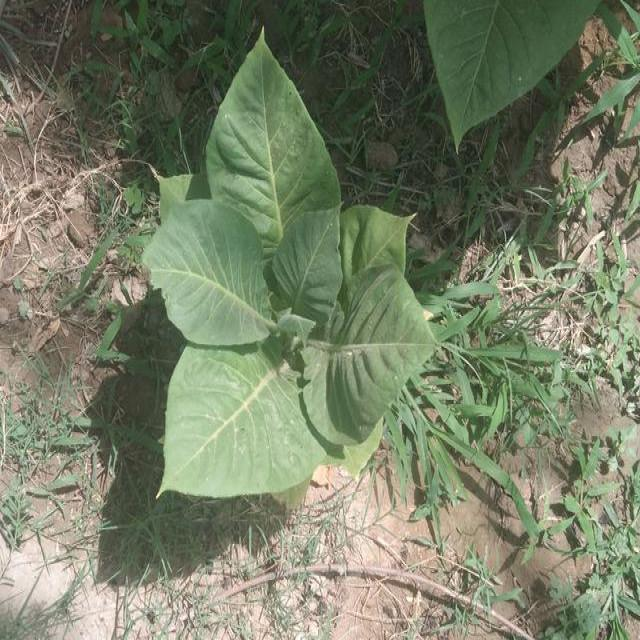crop: (135, 20, 443, 510)
